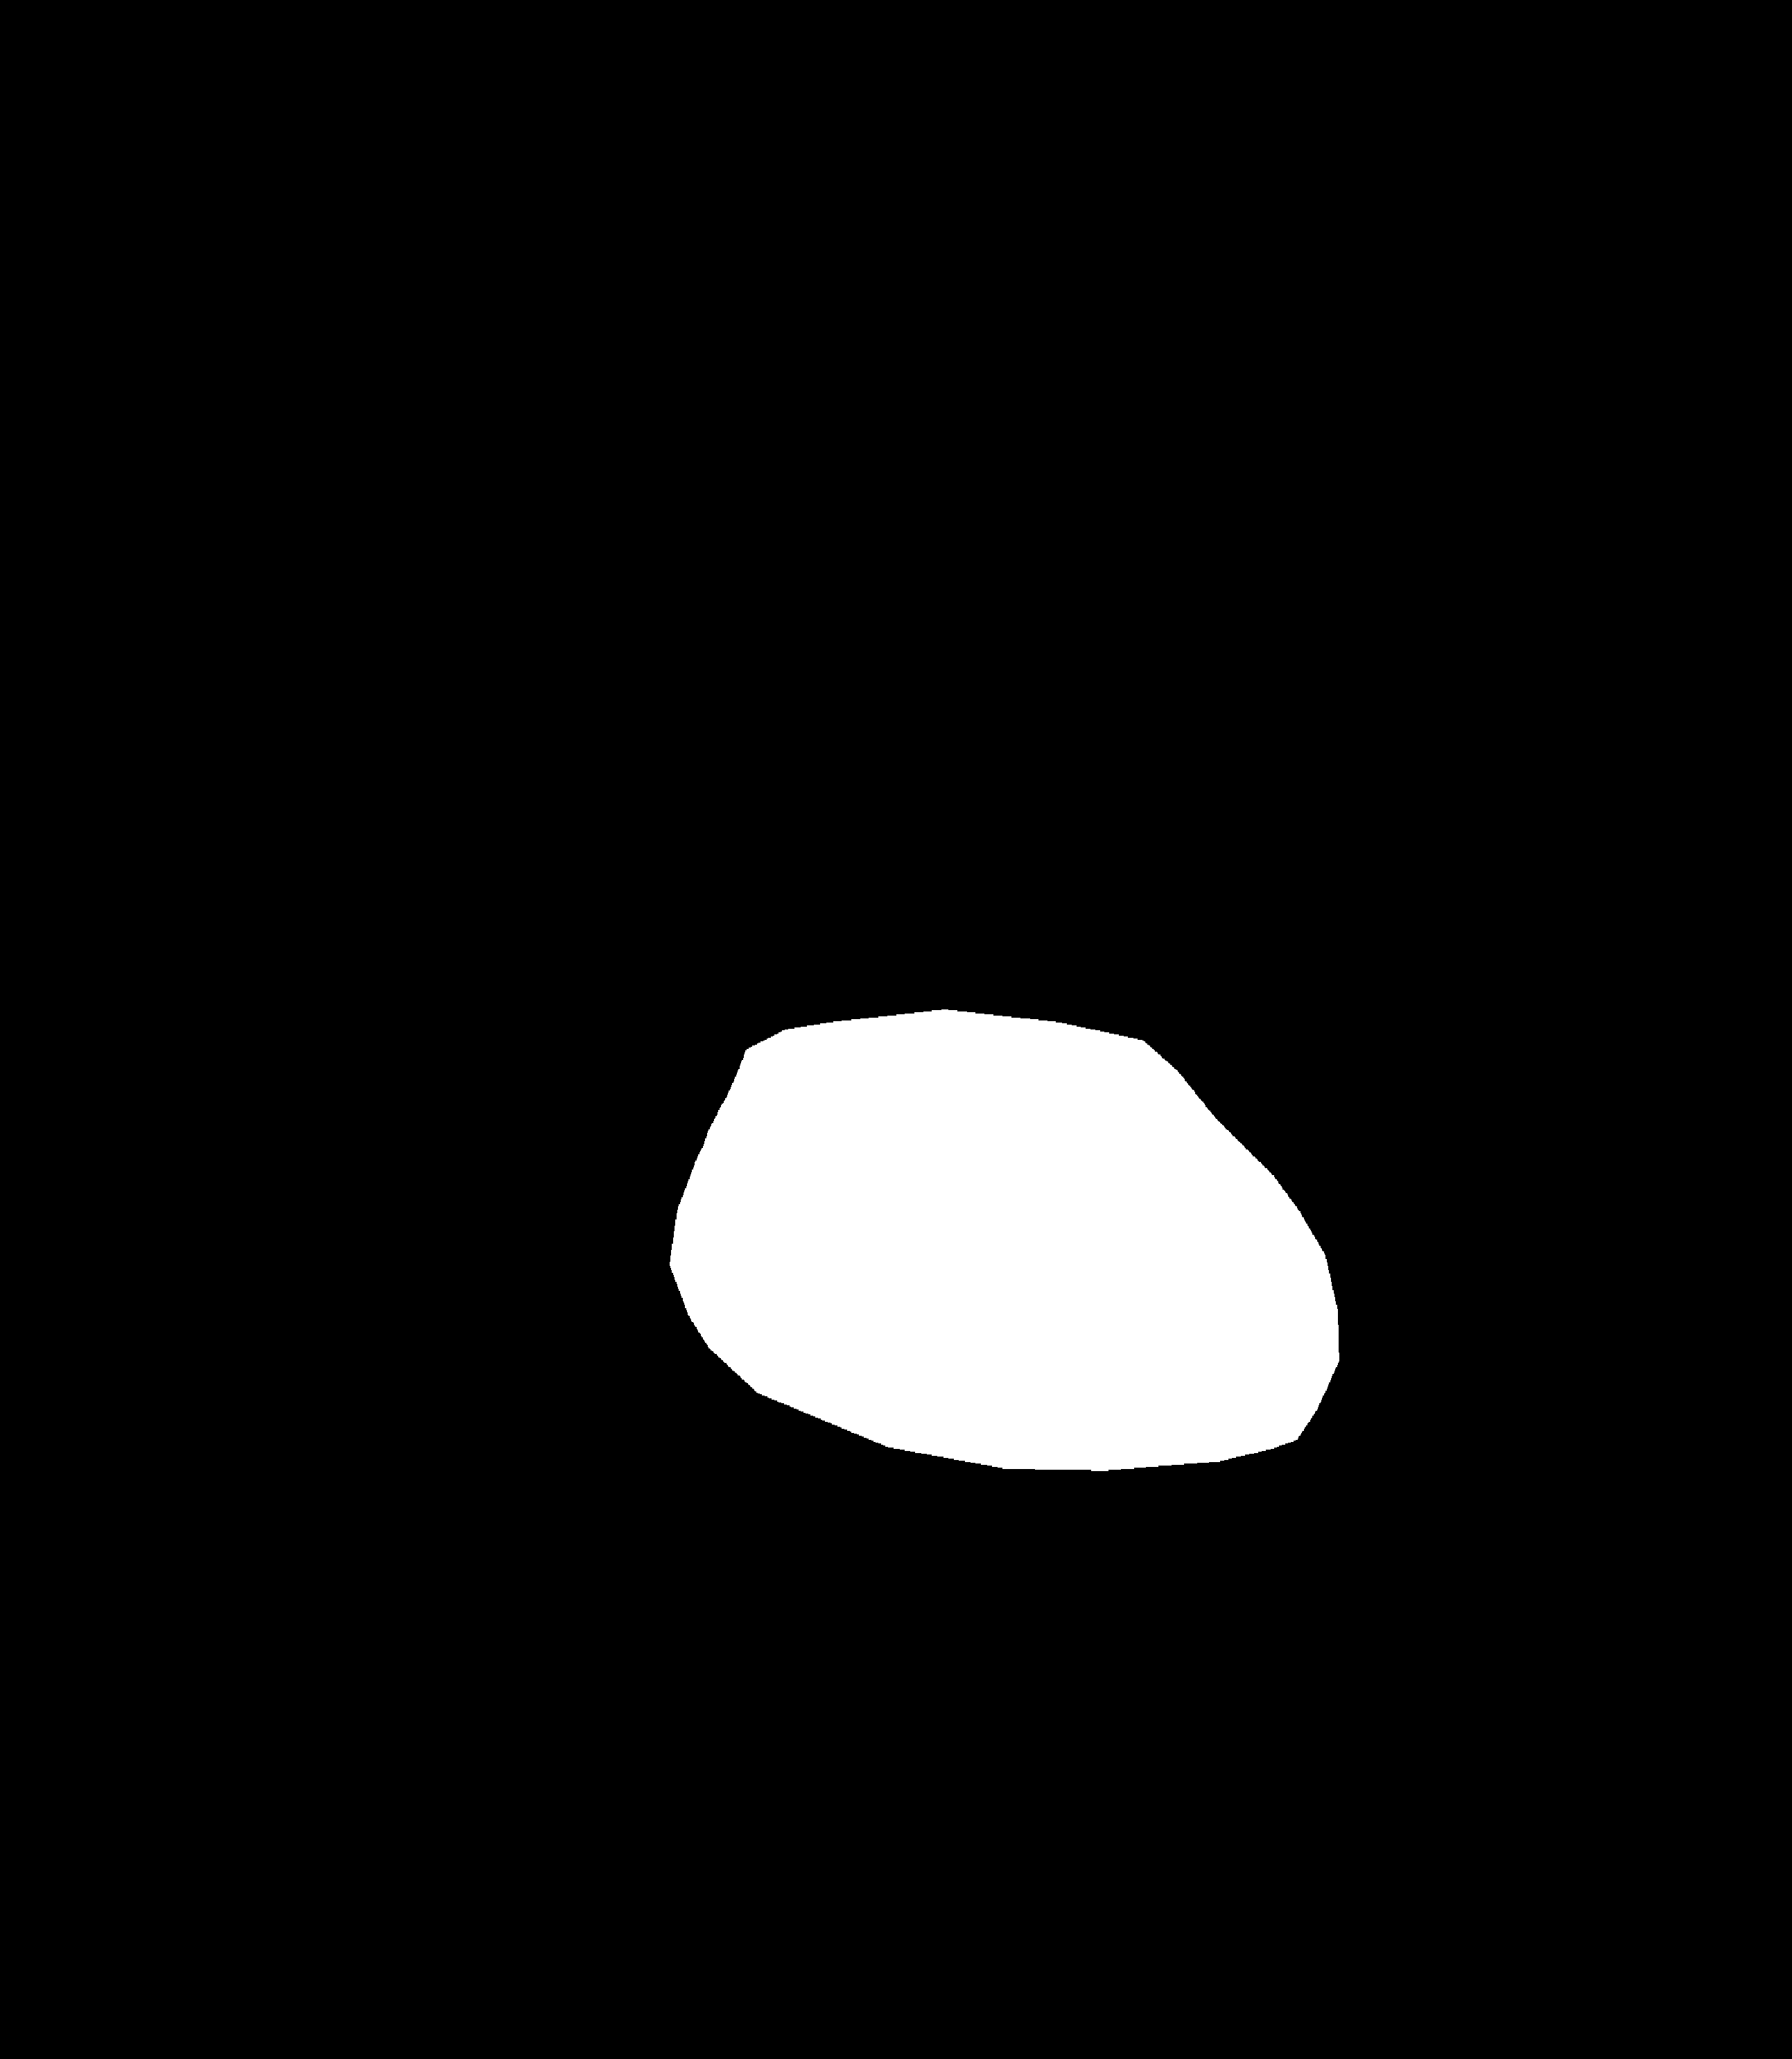heart: (672, 1066, 1337, 1506)
left_lung: (166, 294, 803, 1560)
right_lung: (938, 284, 1522, 1578)
